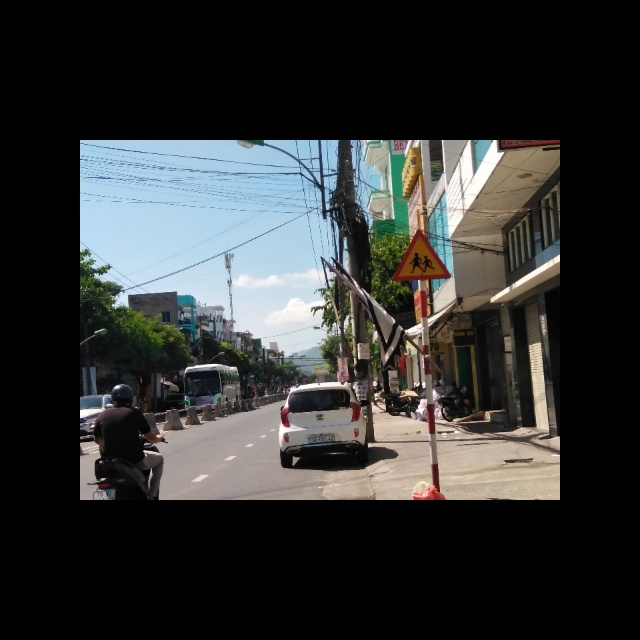Trẻ em ngang qua: (388, 226, 451, 280)
